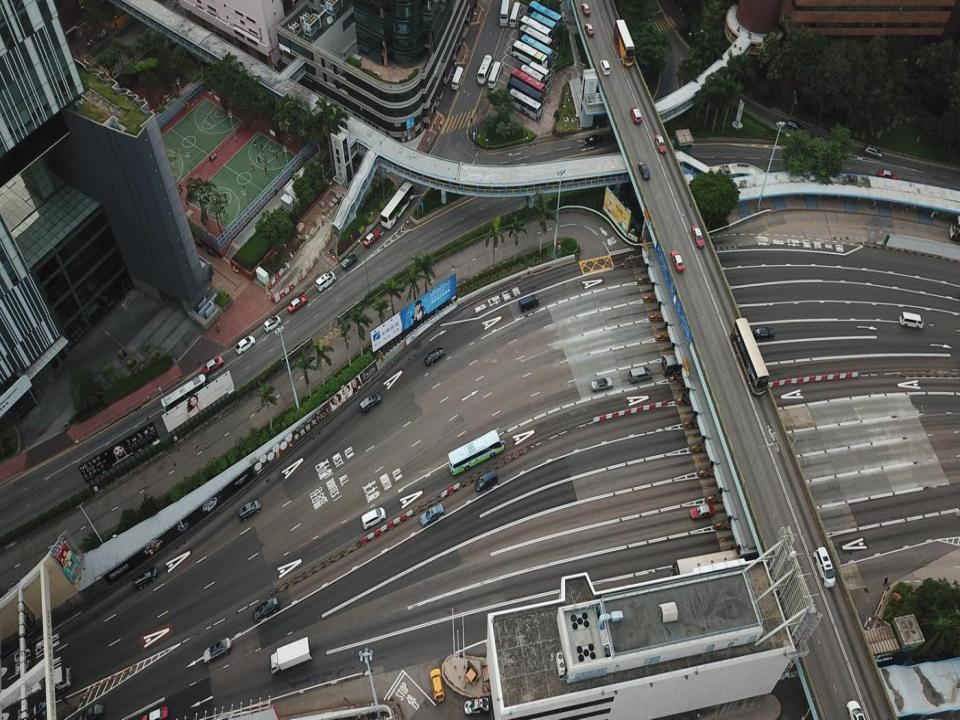bus: (730, 317, 770, 398), (448, 428, 504, 476), (161, 374, 211, 418), (380, 182, 415, 228), (508, 68, 546, 102), (525, 0, 562, 34), (505, 77, 542, 110), (661, 348, 703, 376), (520, 33, 554, 67), (510, 40, 548, 70), (508, 87, 542, 120), (518, 14, 552, 46), (518, 23, 552, 55), (614, 19, 635, 68), (530, 10, 556, 40), (519, 64, 545, 90), (477, 55, 494, 84), (528, 60, 550, 82), (488, 60, 501, 89), (451, 66, 464, 90), (499, 0, 510, 26), (509, 1, 520, 27)
car: (203, 637, 232, 663), (253, 596, 279, 621), (420, 504, 444, 526), (78, 702, 104, 719), (202, 355, 224, 374), (464, 698, 490, 714), (690, 502, 714, 519), (235, 336, 256, 354), (590, 376, 613, 392), (690, 224, 705, 248), (424, 347, 444, 365), (287, 295, 308, 312), (141, 706, 168, 719), (263, 315, 281, 334), (671, 250, 685, 272), (363, 229, 380, 247), (754, 326, 774, 340), (341, 253, 357, 270), (786, 118, 804, 132), (654, 134, 667, 153), (877, 169, 897, 181), (638, 161, 650, 180), (584, 134, 602, 146), (584, 22, 594, 36), (582, 3, 590, 16)
truck: (9, 666, 71, 712), (271, 637, 312, 673)
van: (813, 546, 835, 586), (361, 506, 386, 530), (132, 566, 157, 589), (430, 668, 445, 703), (474, 470, 498, 491), (238, 500, 261, 521), (360, 393, 382, 414), (628, 366, 652, 384), (315, 272, 336, 292), (899, 312, 924, 328), (518, 294, 539, 311), (863, 144, 882, 159), (630, 106, 641, 124), (600, 59, 610, 75)
